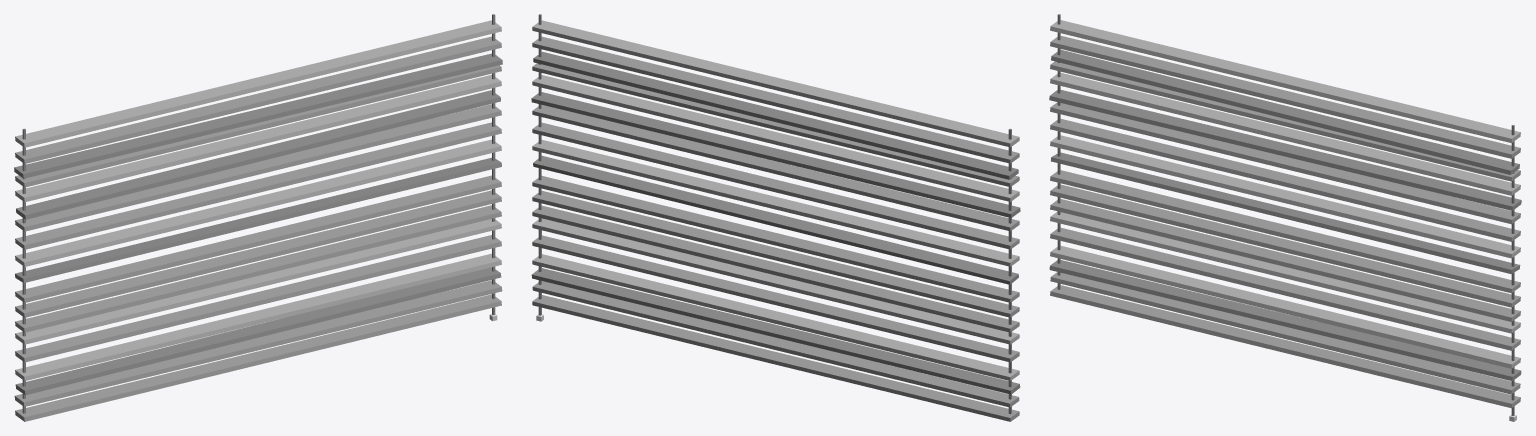
Rendered from SM_Bld_Wall_Glass_Large_Window_Blinds_Open_01.glb.
3 views of the same model, side by side, from view 1: azimuth 30°, elevation 25°; view 2: azimuth 150°, elevation 25°; view 3: azimuth 330°, elevation 25° (orthographic). The views are drawn at different scales.
Visible parts, largest first — view 1: SM_Bld_Wall_Glass_Large_Window_Blinds_Open_01; view 2: SM_Bld_Wall_Glass_Large_Window_Blinds_Open_01; view 3: SM_Bld_Wall_Glass_Large_Window_Blinds_Open_01.
Boxes of the visible parts, x1,y1,x2,y2 form: SM_Bld_Wall_Glass_Large_Window_Blinds_Open_01: (14,14,502,421); SM_Bld_Wall_Glass_Large_Window_Blinds_Open_01: (531,14,1020,421); SM_Bld_Wall_Glass_Large_Window_Blinds_Open_01: (1049,14,1521,421).
Bounding box in the file's own units: 4.9 × 2.99 × 0.2079.
Materials: 1 (1 with a texture image).
